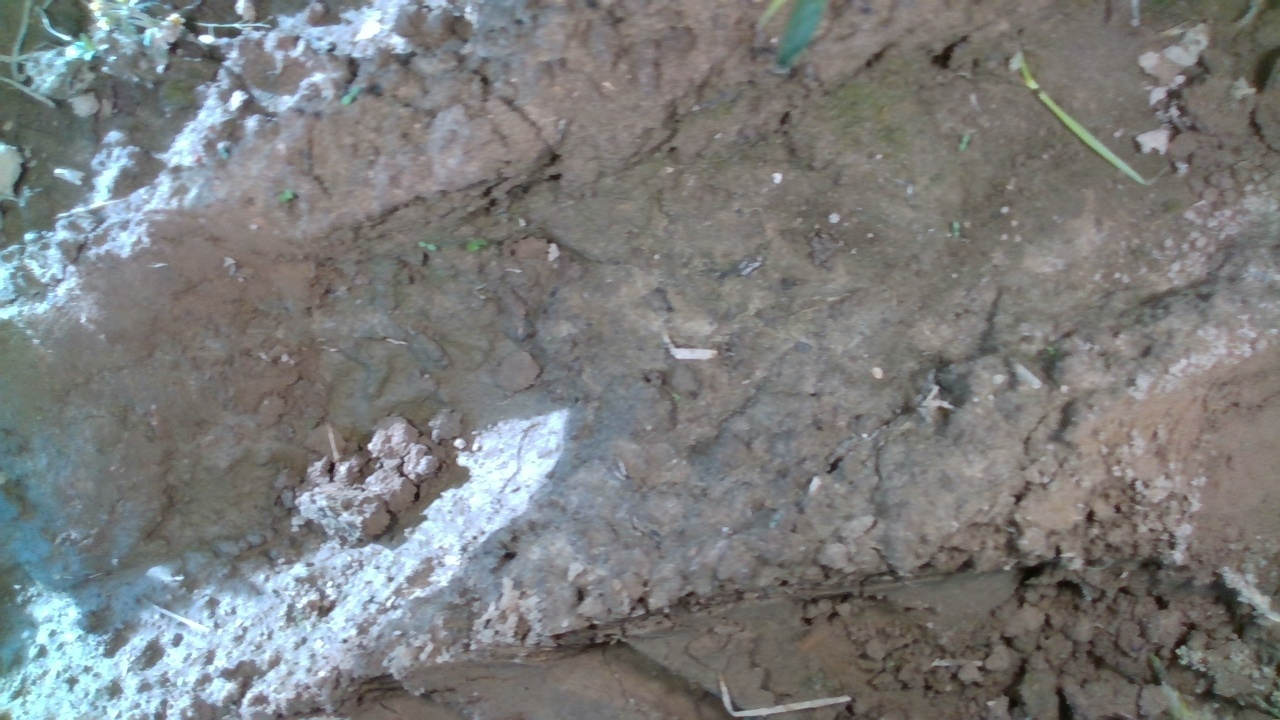weed: (338, 82, 361, 108), (956, 132, 971, 153), (415, 239, 439, 252), (950, 218, 963, 240)
